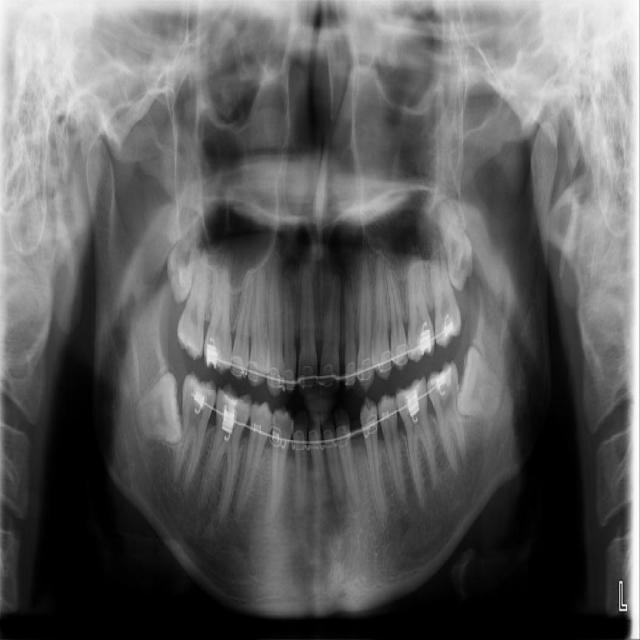impacted tooth: (426, 193, 474, 289), (458, 345, 506, 423), (134, 371, 182, 443), (169, 206, 204, 302)
